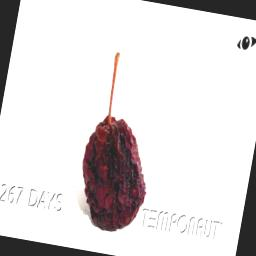Apple Rotten: (57, 9, 196, 243)
